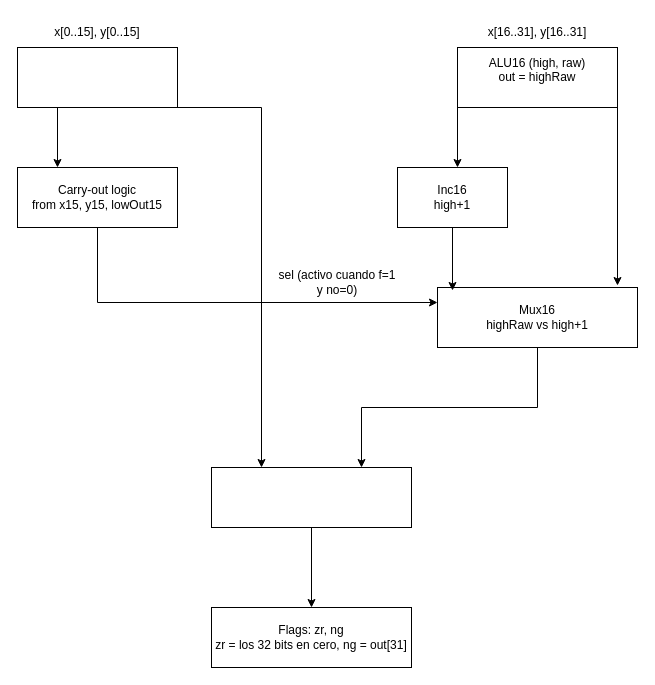
Image size: 655x685. Some labels were removed from this diagram. The centre of each missing label's shape, as x and y in pixels:
ALU16 (low) out = lowOut, zr, ng: (97,77)
out[0..31] low | high corregido: (311,497)
